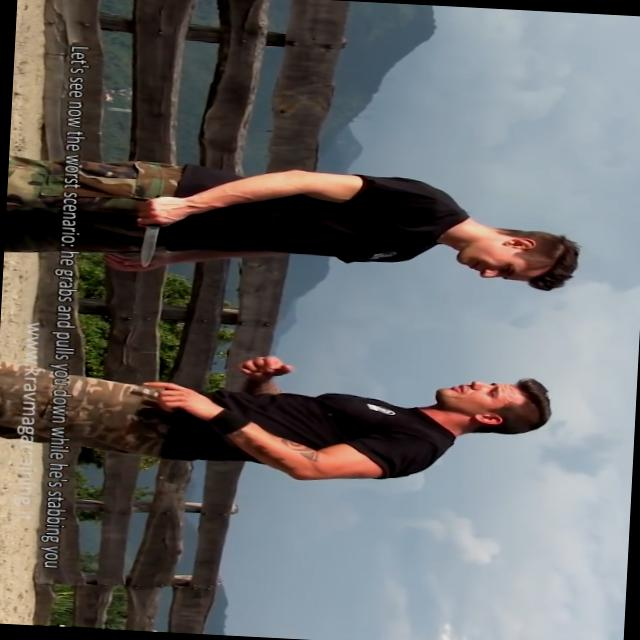knife: (130, 194, 176, 272)
